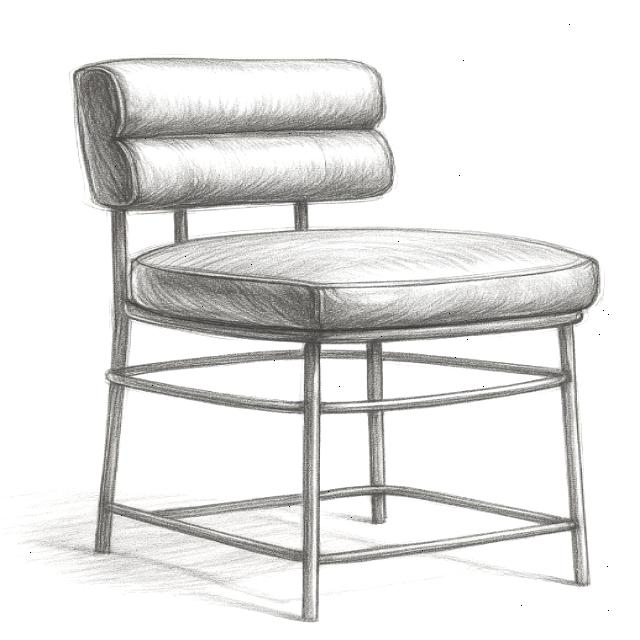Backrest: (71, 56, 397, 259)
Leg_Structure: (93, 315, 592, 622)
Seat: (123, 227, 601, 344)
